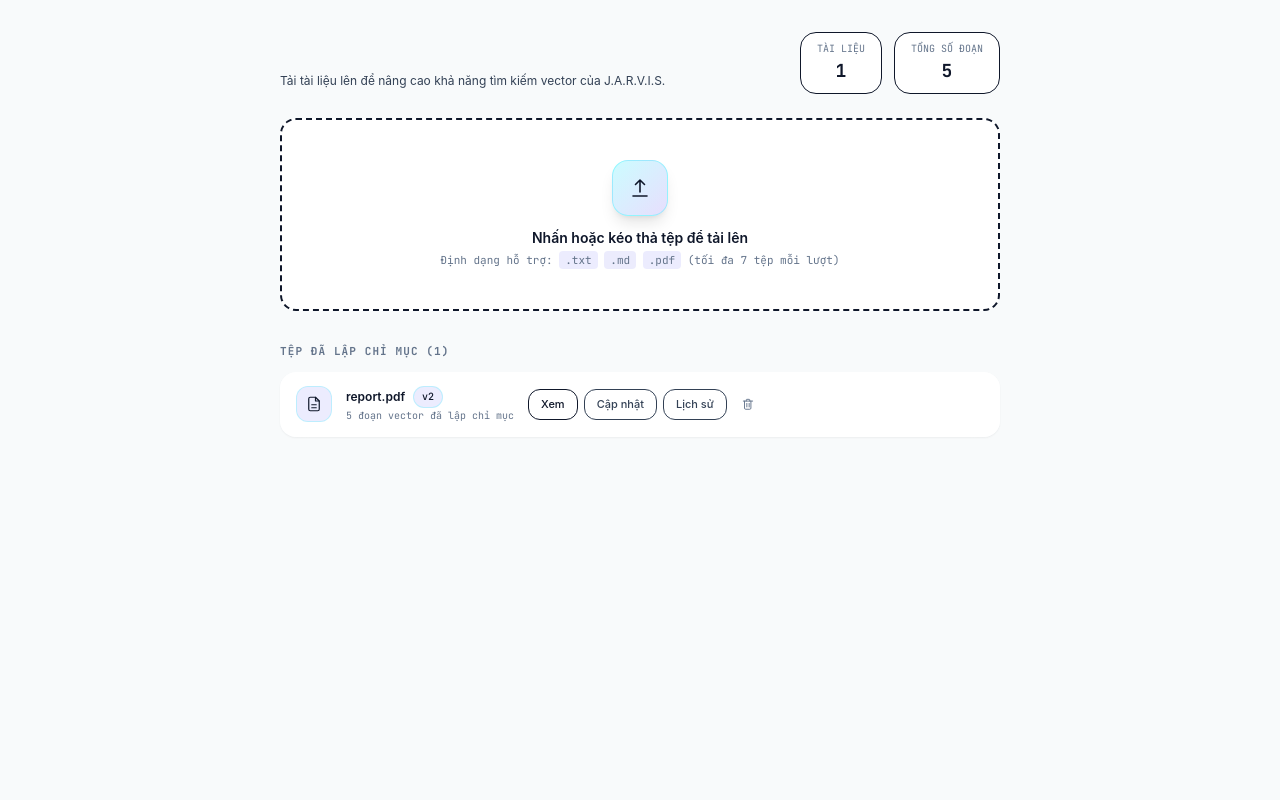
Test: DocumentsView › renders document list item actions and the translated delete confirmation dialog in Vietnamese
expect the text "report.pdf" is shown: met, box [346, 389, 405, 404]
expect the button "Xem" is shown: met, box [528, 389, 578, 420]
Click the button named "Xóa report.pdf" at (748, 404), box [733, 389, 763, 419]
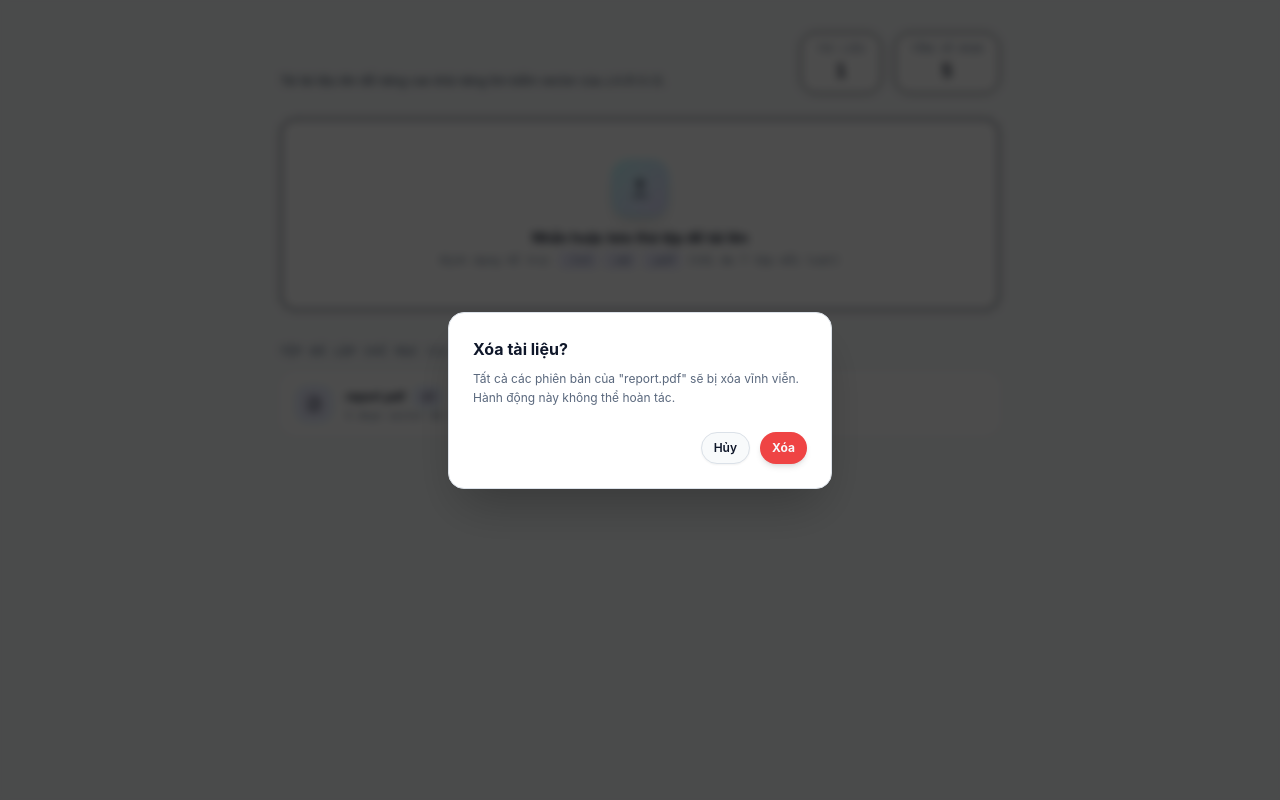
expect the heading "Xóa tài liệu?" is shown: met, box [473, 338, 568, 358]
expect the button "Xóa" is shown: met, box [760, 432, 807, 464]
expect the button "Hủy" is shown: met, box [701, 432, 750, 464]
